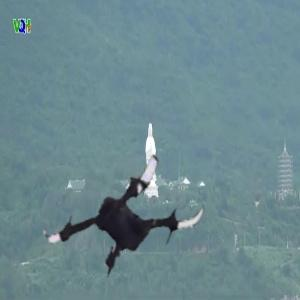drone: (43, 127, 210, 294)
